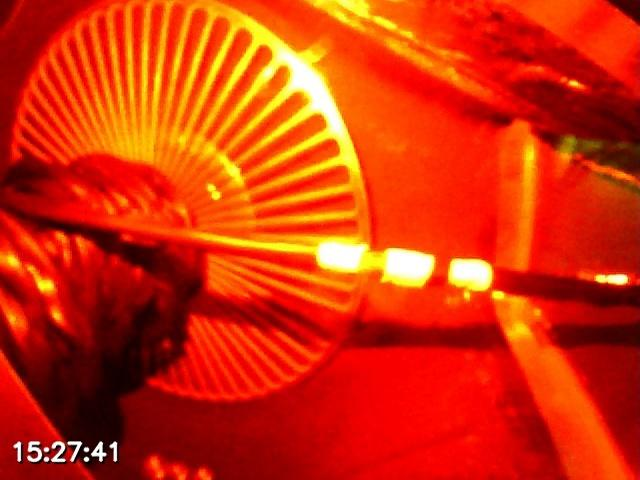white-dots: (314, 239, 494, 290)
